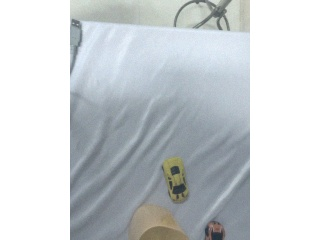cup: (127, 202, 194, 240)
toy_car: (162, 156, 189, 203), (205, 221, 225, 239)
